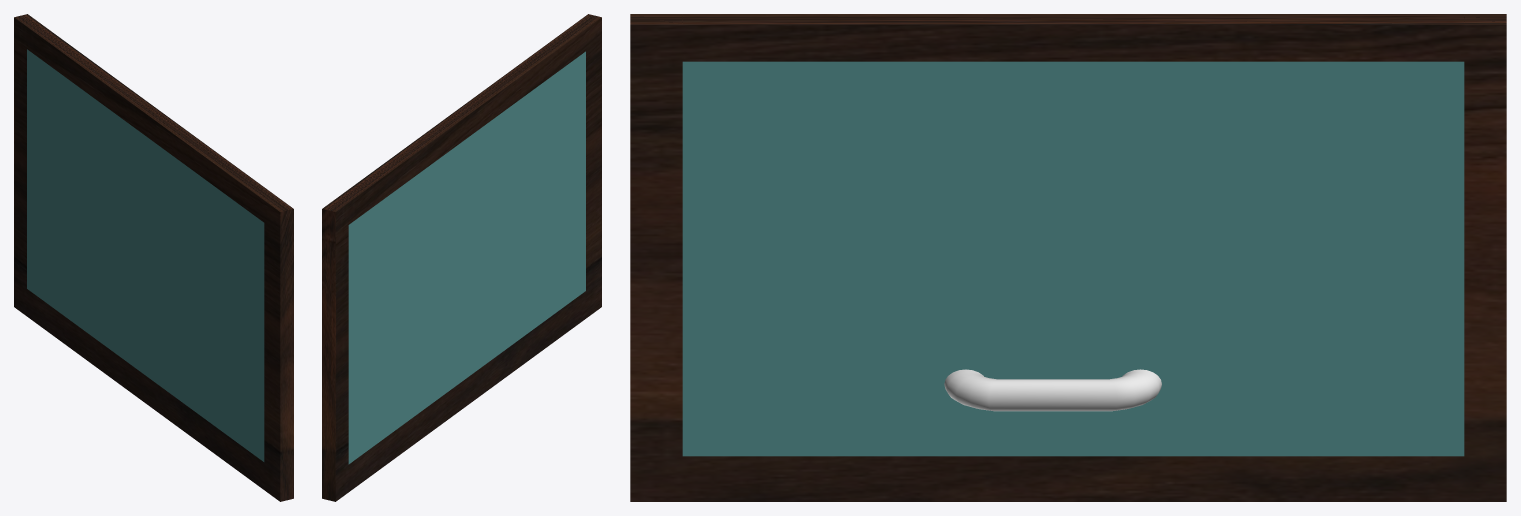
File: 3D Cabinet Door(1).fbx
3 renders of one model, left to right at view 1: azimuth 30°, elevation 25°; view 2: azimuth 150°, elevation 25°; view 3: azimuth 270°, elevation 25°, orthographic. The views are drawn at different scales.
Parts seen in each view (by area): view 1: pTorus4; view 2: pTorus4; view 3: pTorus4.
Boxes of the visible parts, left/top/right/bottom form: pTorus4: left=14, top=14, right=293, bottom=501; pTorus4: left=322, top=14, right=601, bottom=501; pTorus4: left=630, top=14, right=1506, bottom=501.
Bounding box in the file's own units: 0.4407 × 3.56 × 5.93.
Materials: 3 (1 with a texture image).
